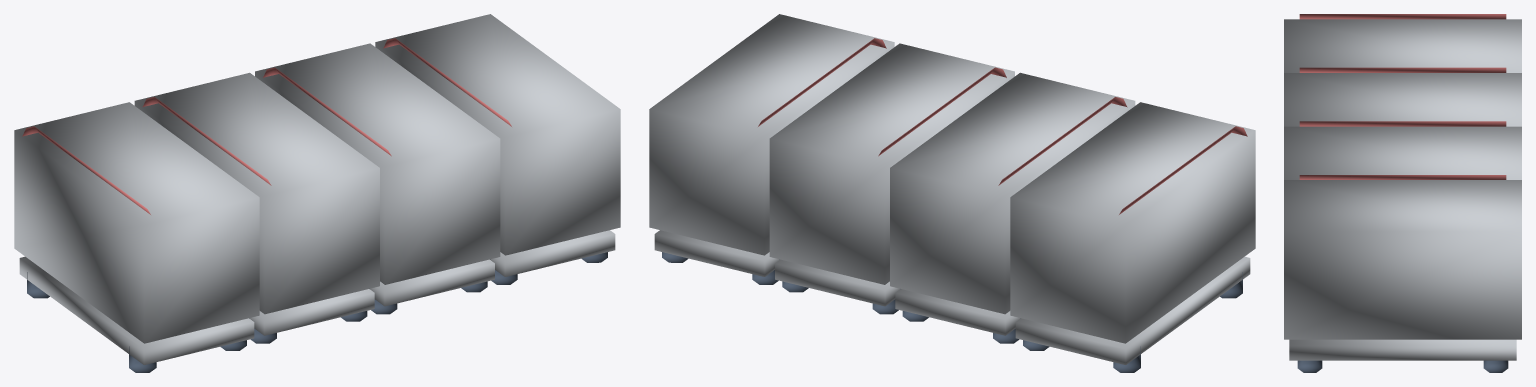
The model's file is shopping-carts.glb.
The picture shows the model from 3 angles, left to right: view 1: azimuth 30°, elevation 25°; view 2: azimuth 150°, elevation 25°; view 3: azimuth 270°, elevation 25°; orthographic projection. The views are drawn at different scales.
Parts seen in each view (by area): view 1: world; view 2: world; view 3: world.
Part boxes in pixels (<box>): world: <box>14,14,620,372</box>; world: <box>649,14,1255,372</box>; world: <box>1284,14,1521,372</box>.
Bounding box in the file's own units: 5.5 × 1.8 × 2.6.
